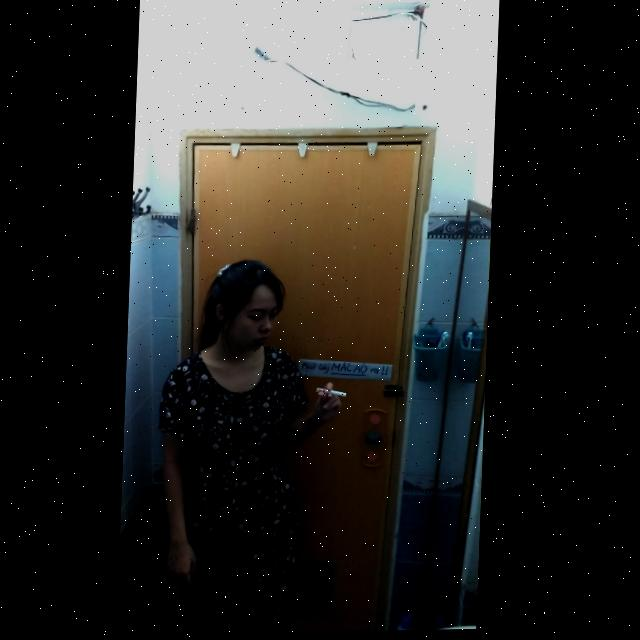cigarette: (319, 389, 350, 399)
